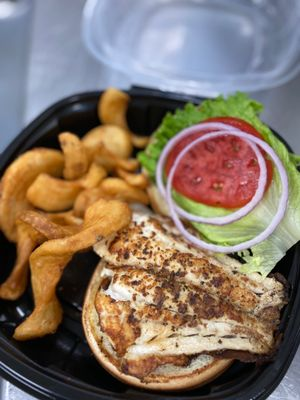sushi: (79, 0, 300, 98)
